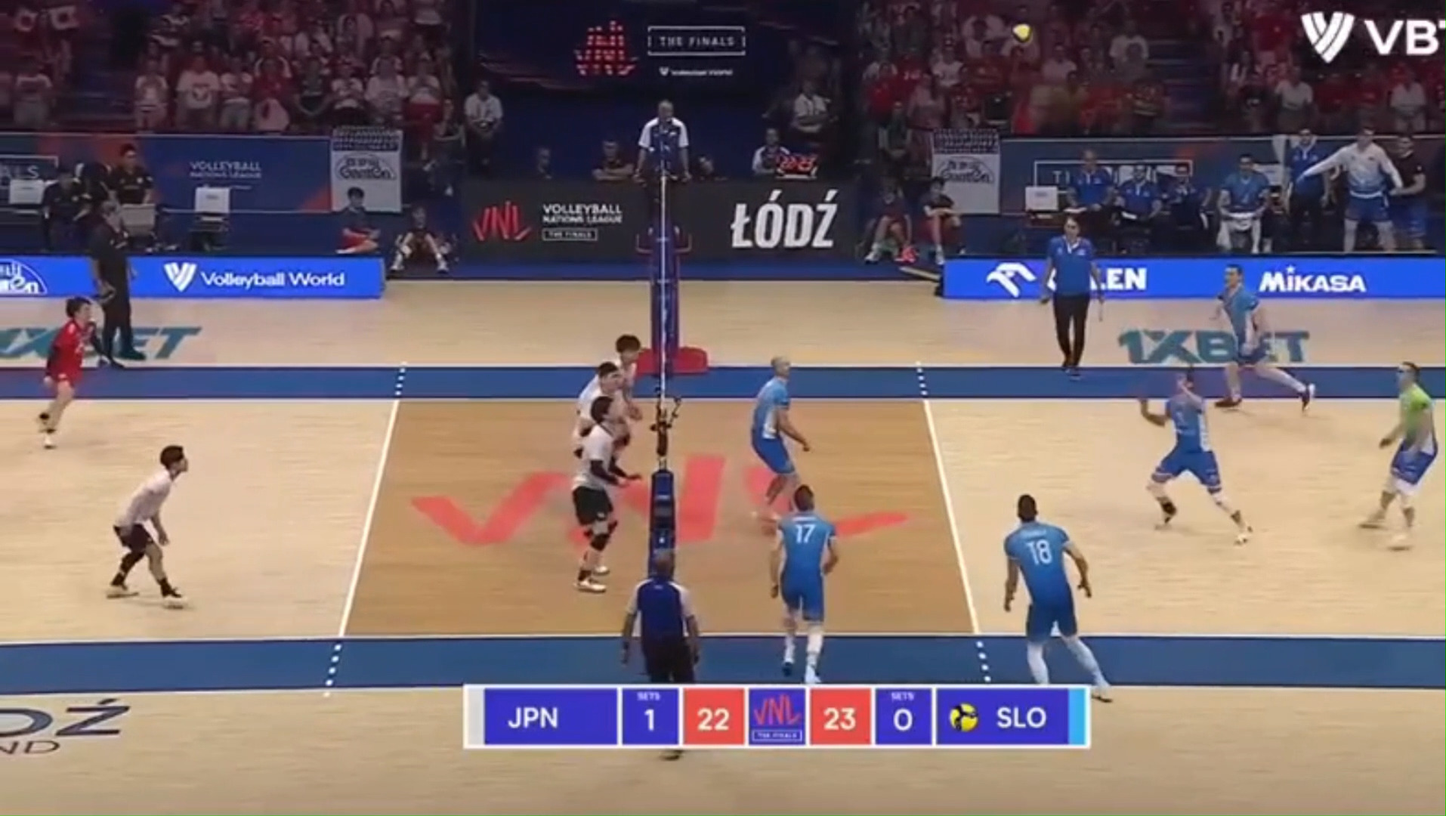ball: (1012, 23, 1032, 42)
player: (1003, 494, 1108, 701), (1139, 371, 1251, 544), (1216, 264, 1314, 410), (1360, 362, 1438, 545), (770, 485, 839, 684), (749, 357, 811, 519)
player 1: (107, 445, 188, 604), (571, 396, 635, 592), (37, 297, 93, 448), (573, 362, 625, 453), (614, 335, 643, 393)
referee: (621, 550, 700, 683), (1040, 215, 1101, 377), (89, 200, 145, 366), (635, 100, 691, 252)
